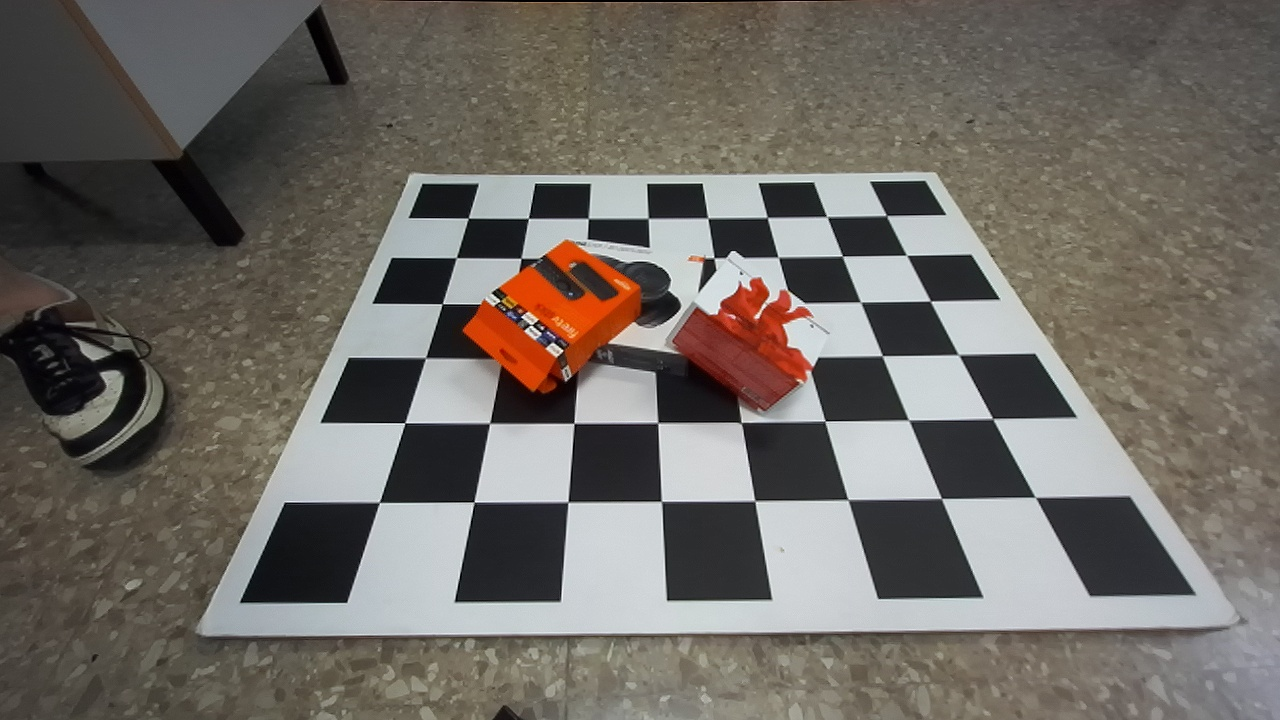caja_chasis: (571, 240, 704, 374)
caja_manguera: (464, 240, 639, 392)
caja_potencia: (664, 251, 832, 416)
